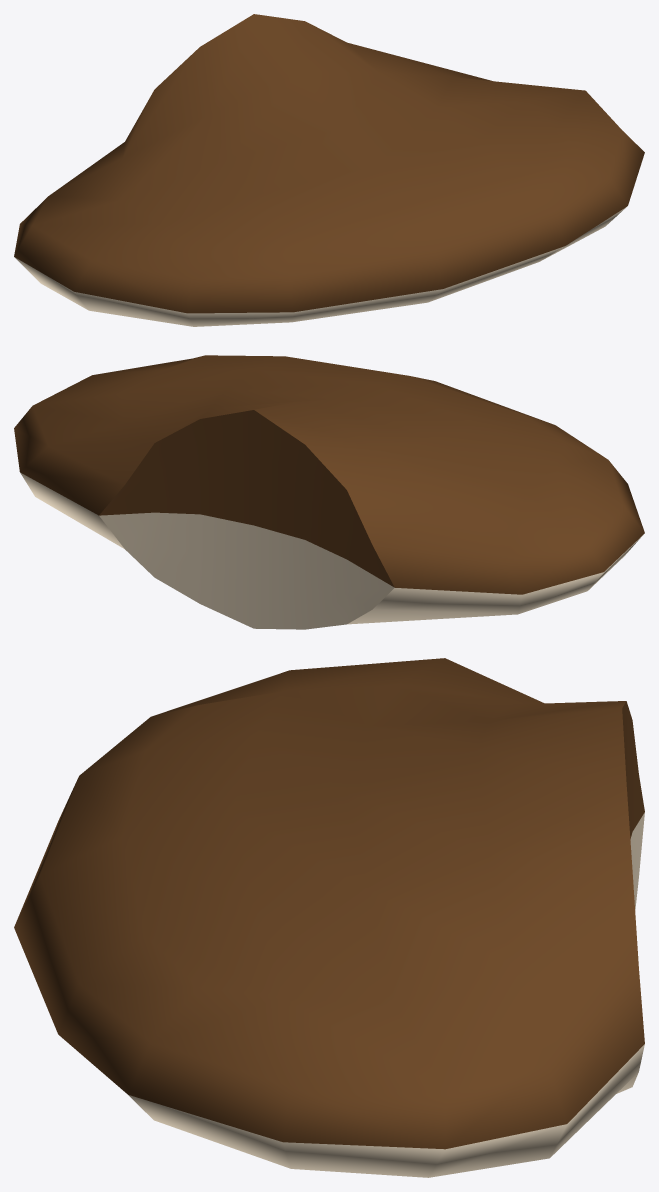
The model's file is Artists_Conk_Big.fbx.
3 views of the same model, one above another, from view 1: azimuth 30°, elevation 25°; view 2: azimuth 150°, elevation 25°; view 3: azimuth 270°, elevation 25° (orthographic). The views are drawn at different scales.
Parts seen in each view (by area): view 1: Artists_Conk_Big; view 2: Artists_Conk_Big; view 3: Artists_Conk_Big.
Boxes of the visible parts, x1,y1,x2,y2 form: Artists_Conk_Big: (14, 14, 644, 326); Artists_Conk_Big: (14, 355, 644, 629); Artists_Conk_Big: (14, 658, 644, 1177).
Size of the model in its own units: 76.16 by 27.04 by 43.92.
1 material, 1 textured.
